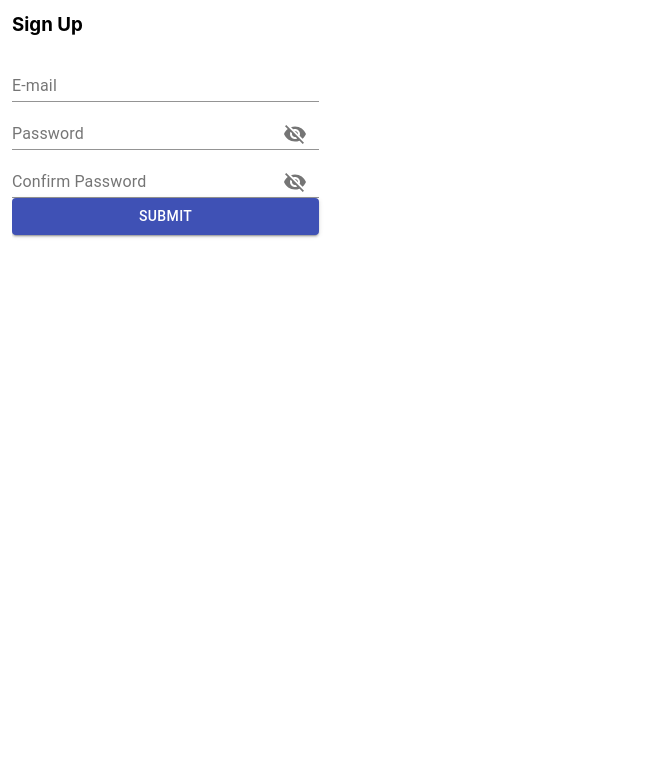
Test case: tests for shared input component › validation when input correct
The width and height of the screenshot is (659, 762).
Type "mockdata@email.com" into the field named "email" at point(166, 86), box [12, 70, 319, 102]
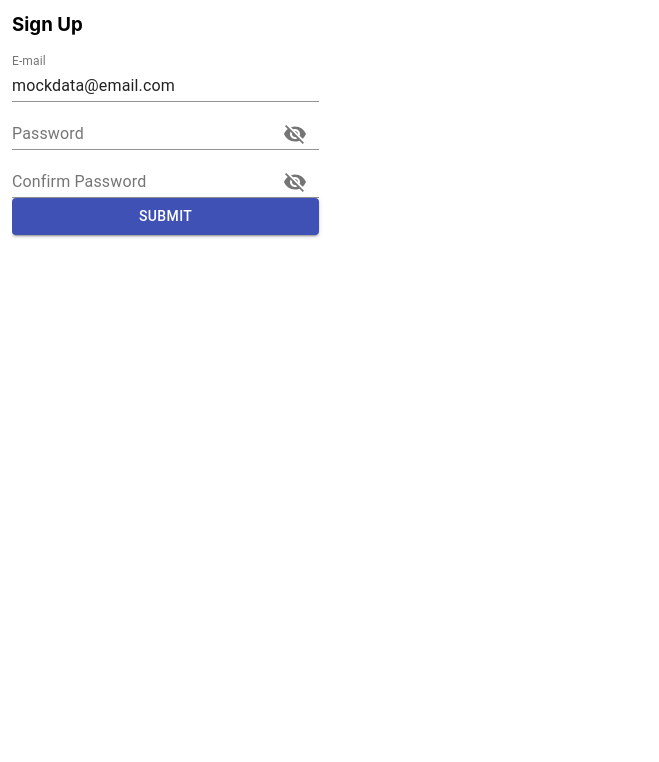
Type "Mockpwd1!" into the password field labelled "Password" at point(138, 134), box [12, 118, 263, 150]
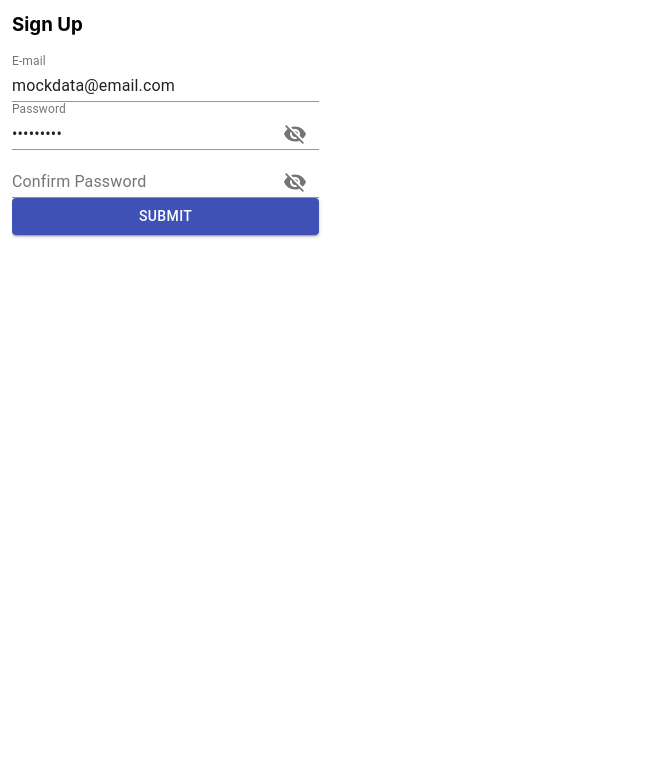
Type "Mockpwd1!" into the password field labelled "Confirm Password" at point(138, 182), box [12, 166, 263, 198]
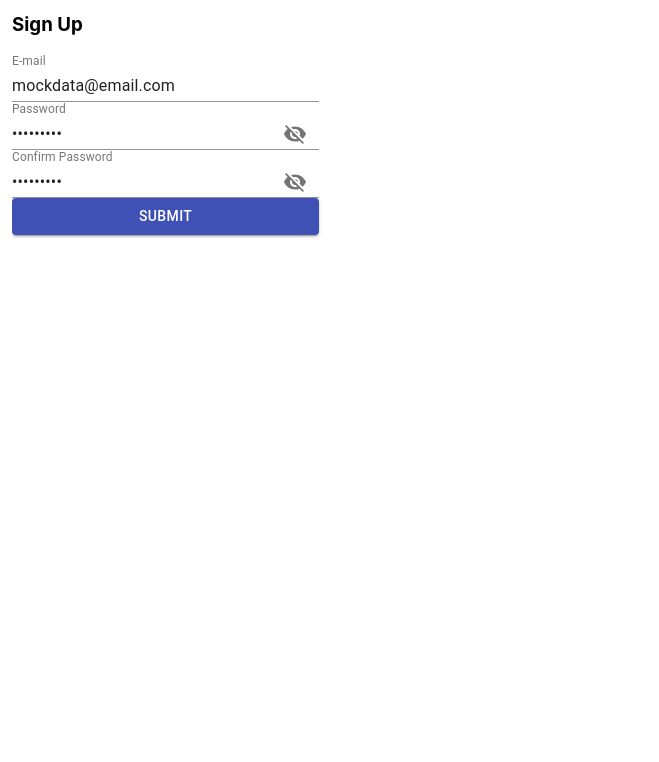
Click the submit button at point(166, 217), box [12, 198, 319, 235]
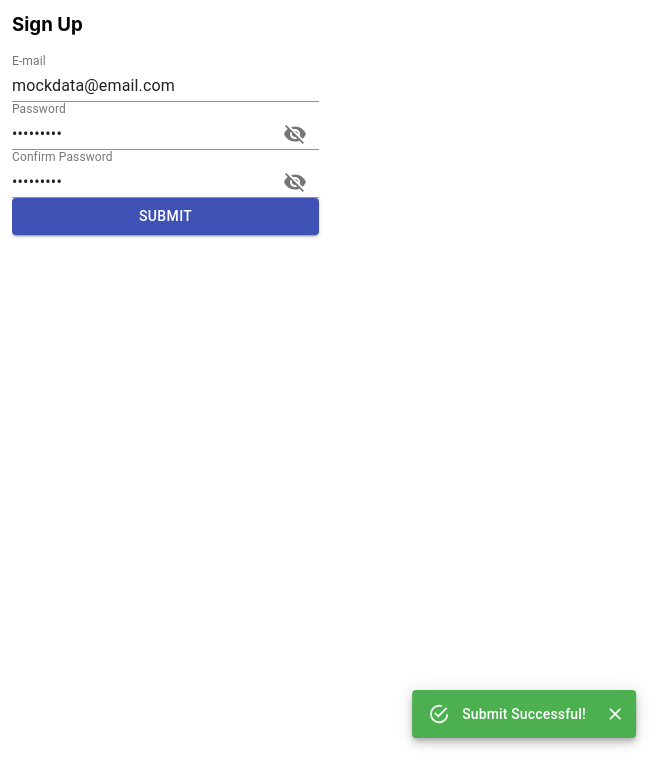
Result: the text "Submit Successful!" is shown at [462, 706, 586, 722]
